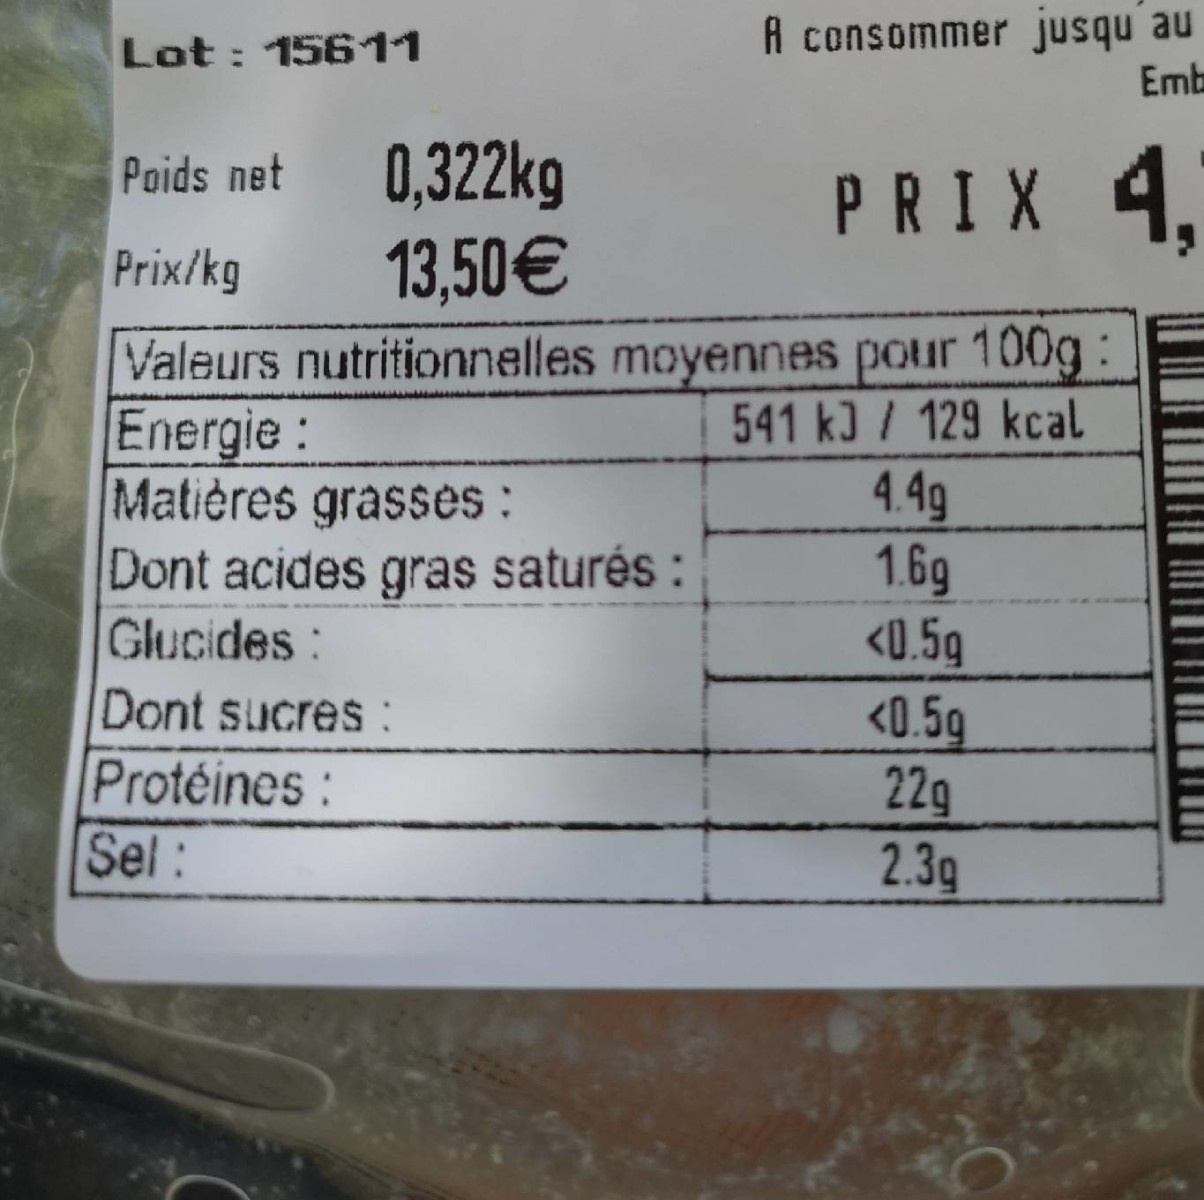column: (86, 402, 682, 933), (720, 398, 1097, 934)
table: (69, 309, 1164, 935)
